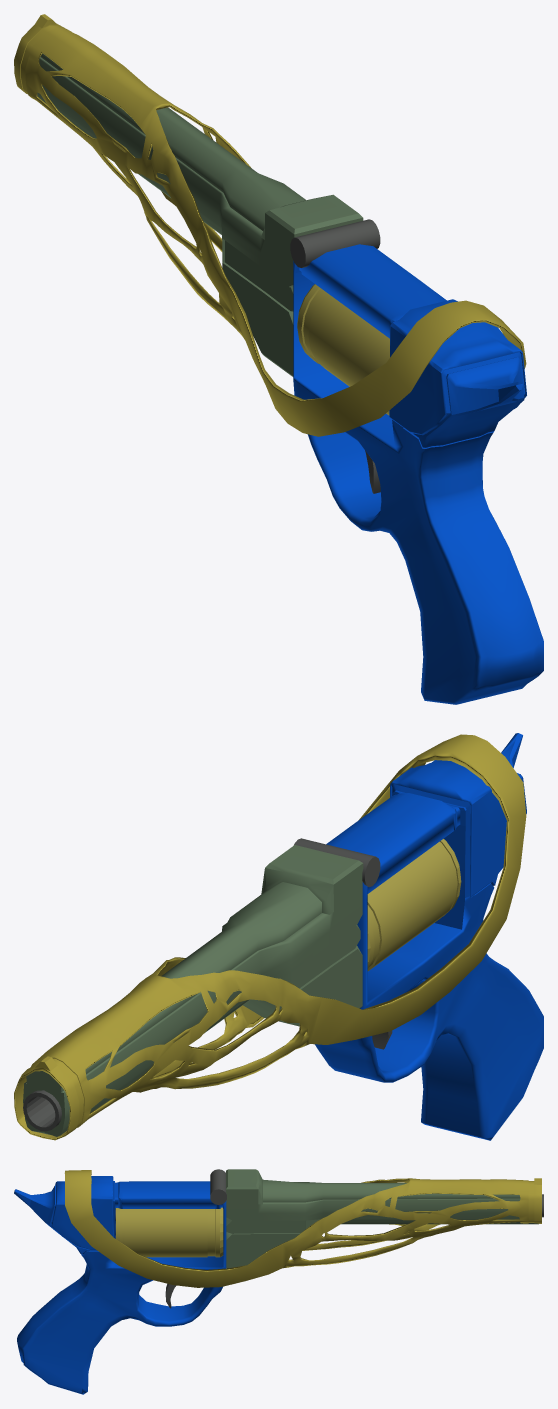
Rendered from gun.fbx.
The picture shows the model from 3 angles, top to bottom: view 1: azimuth 30°, elevation 25°; view 2: azimuth 150°, elevation 25°; view 3: azimuth 270°, elevation 25°; orthographic projection. The views are drawn at different scales.
Parts seen in each view (by area): view 1: grip, accessory, barrel, bullet_drum, top_drum; view 2: grip, accessory, barrel, bullet_drum, inside_barrel, top_drum; view 3: grip, accessory, barrel, bullet_drum, top_drum.
Part boxes in pixels (x1,y1,x2,y2): grip: (293, 244, 543, 704); accessory: (14, 14, 526, 436); barrel: (37, 53, 363, 376); bullet_drum: (297, 284, 389, 415); top_drum: (290, 219, 380, 267); grip: (315, 733, 543, 1140); accessory: (14, 734, 526, 1140); barrel: (23, 845, 363, 1136); bullet_drum: (367, 839, 461, 971); inside_barrel: (23, 1090, 61, 1131); top_drum: (293, 838, 380, 887); grip: (14, 1176, 226, 1394); accessory: (64, 1170, 541, 1287); barrel: (226, 1169, 539, 1268); bullet_drum: (116, 1207, 223, 1257); top_drum: (210, 1169, 226, 1204).
Bounding box in the file's own units: 1.69 × 3.57 × 8.04.
